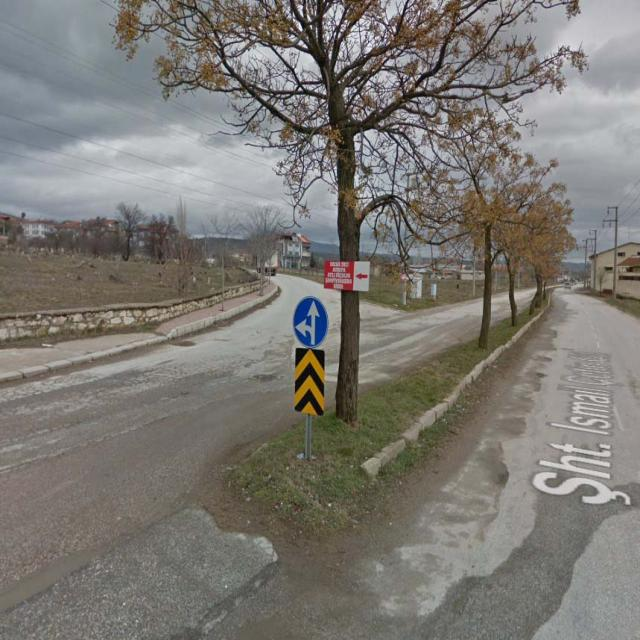ilerisol: (292, 295, 328, 348)
